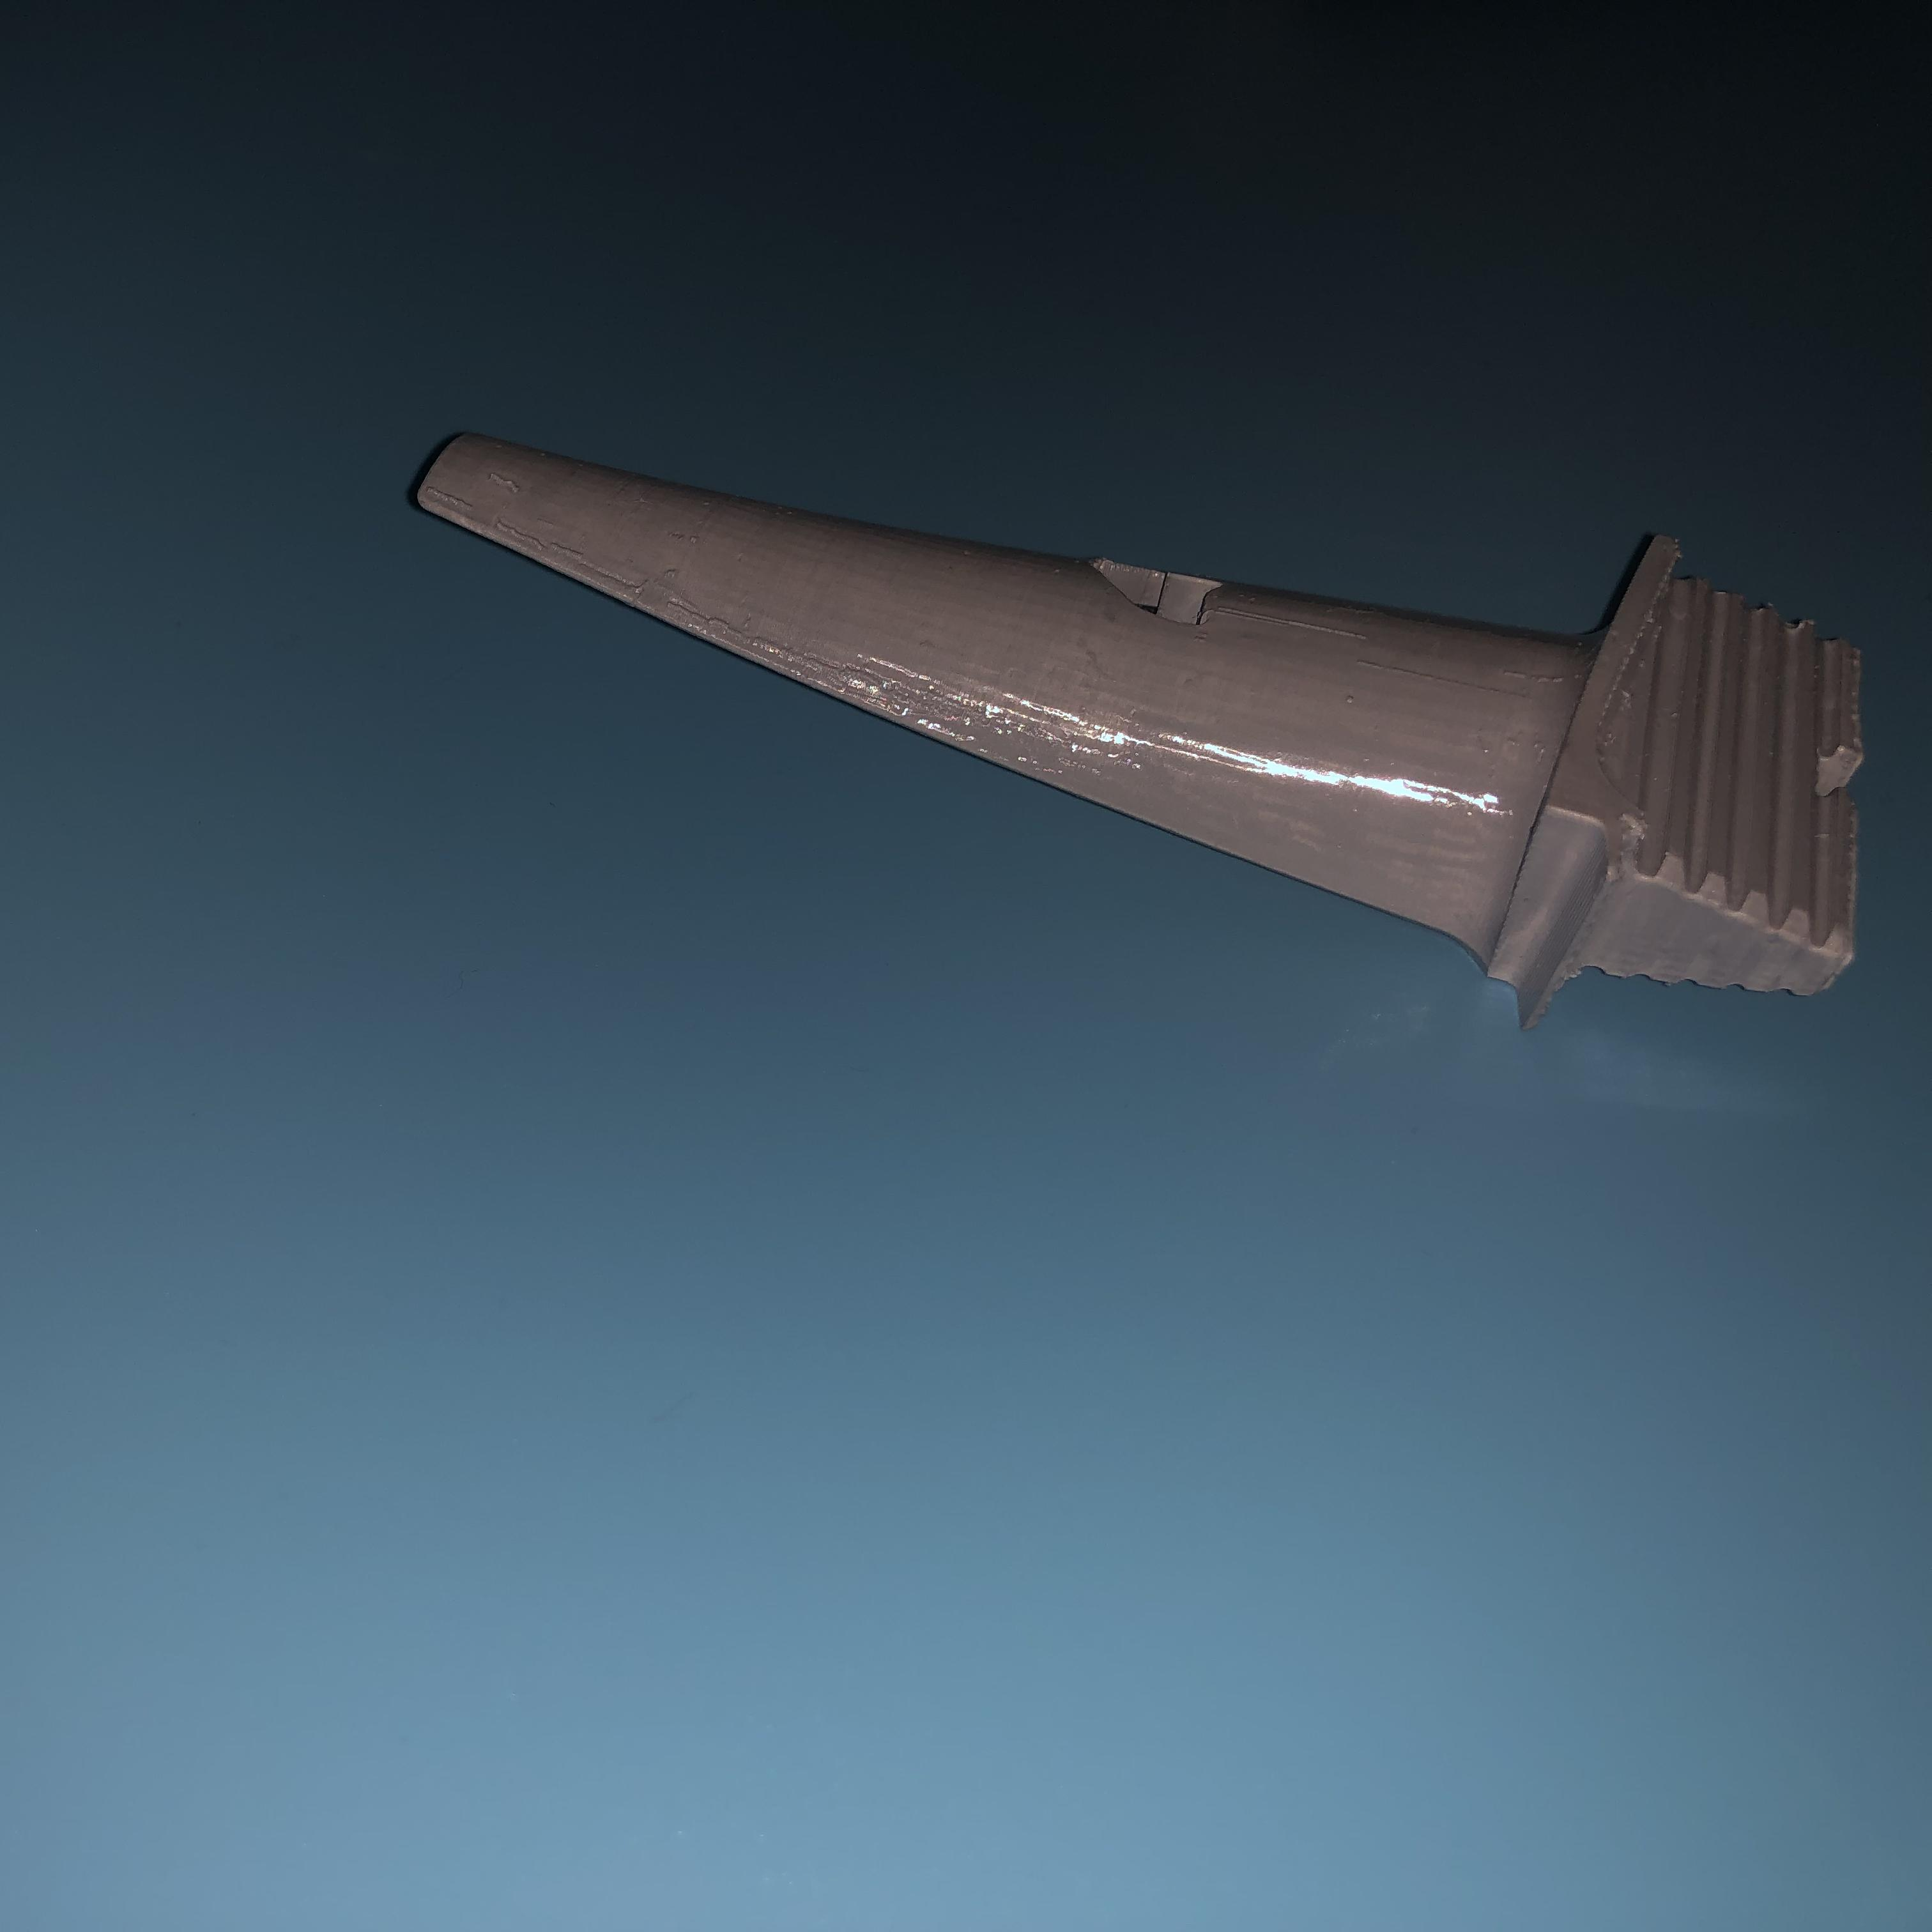breakdown: (1076, 557, 1254, 637)
